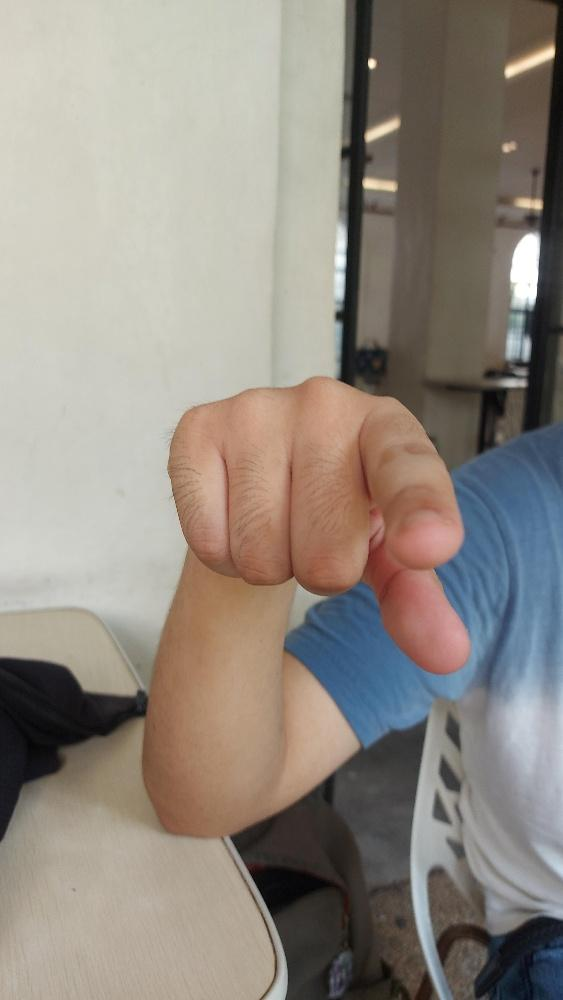z: (166, 374, 470, 674)
